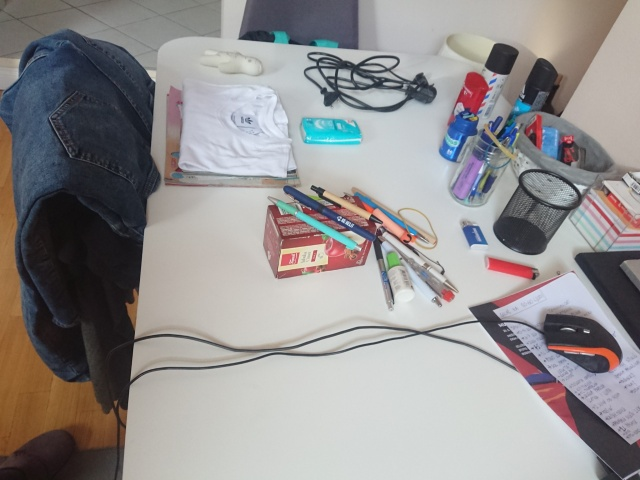Franck Apple Cinnamon Tea 60g: (260, 193, 377, 279)
